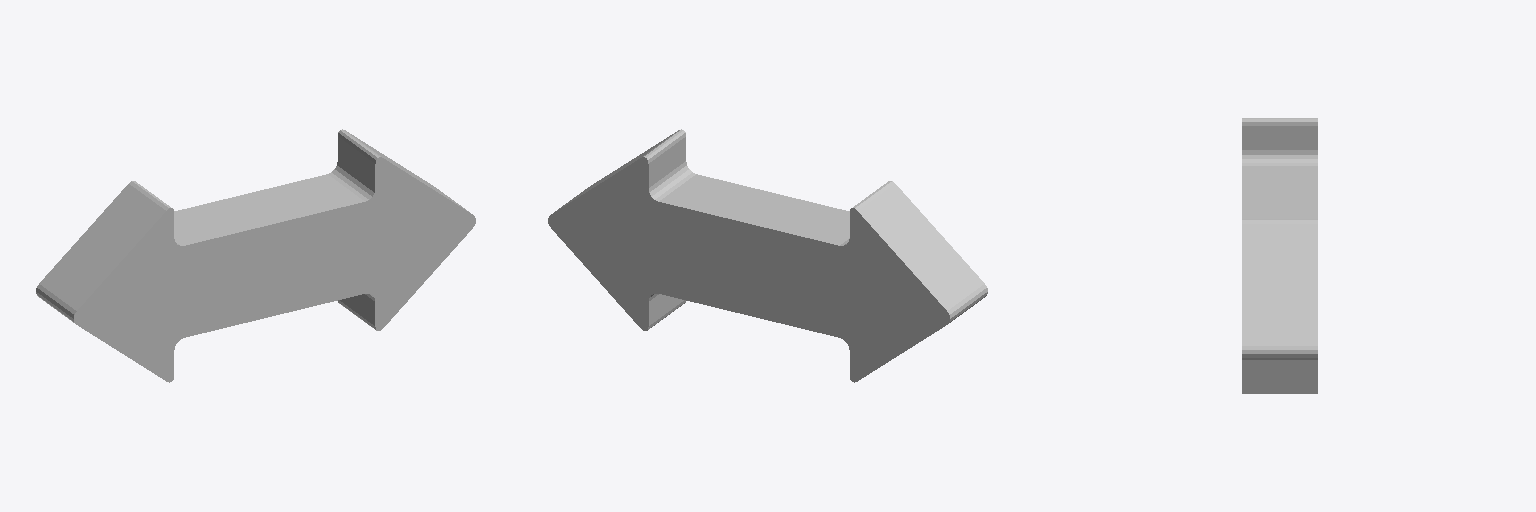
Rendered from Arrow_17.obj.
The picture shows the model from 3 angles: view 1: azimuth 30°, elevation 25°; view 2: azimuth 150°, elevation 25°; view 3: azimuth 270°, elevation 25°; orthographic projection.
Parts seen in each view (by area): view 1: Arrow_17; view 2: Arrow_17; view 3: Arrow_17.
Boxes of the visible parts, x1=… form: Arrow_17: x1=36, y1=129, x2=475, y2=382; Arrow_17: x1=548, y1=129, x2=987, y2=382; Arrow_17: x1=1242, y1=118, x2=1317, y2=393.
Bounding box in the file's own units: 4.58 × 1.89 × 0.7423.